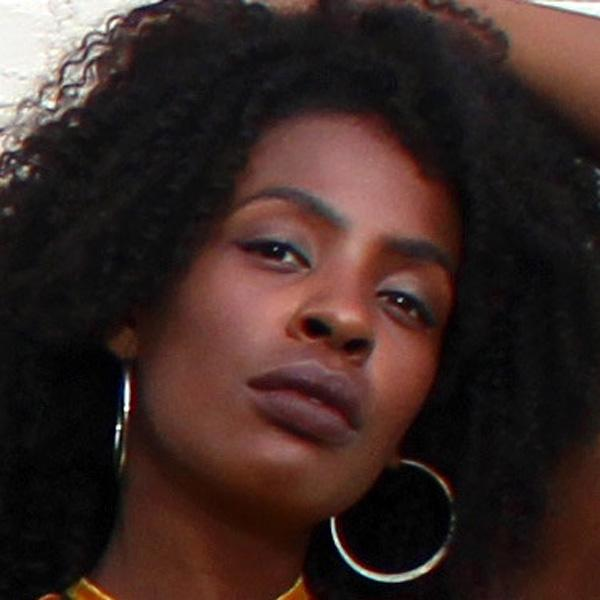Eyes: (229, 215, 318, 278), (364, 266, 440, 336)
